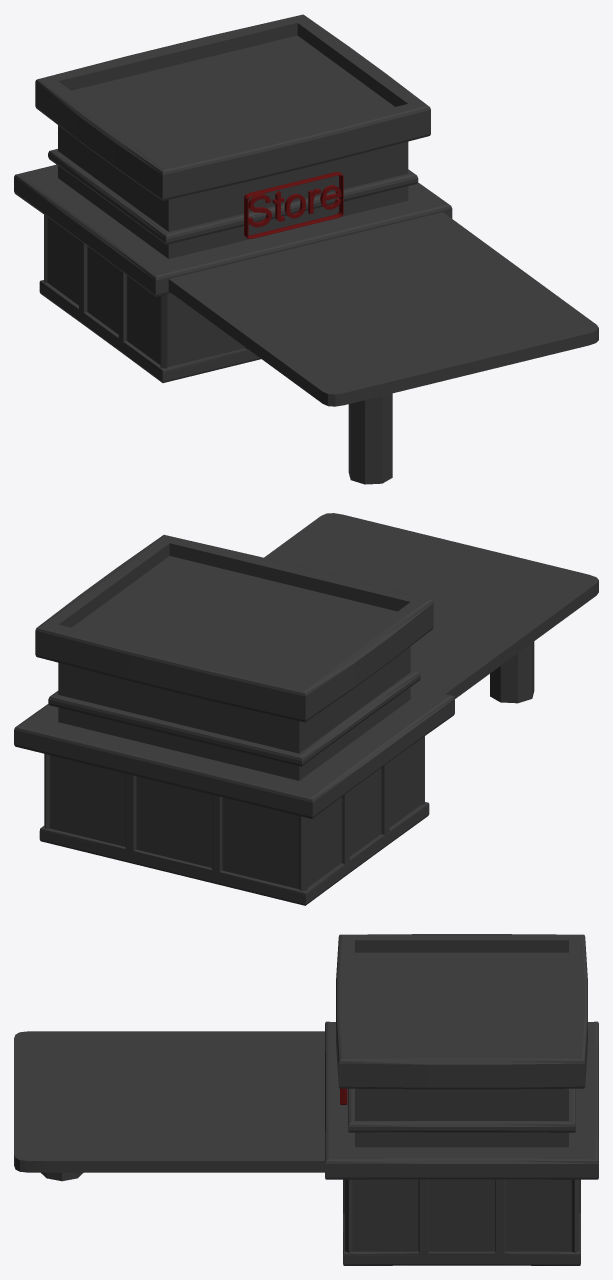
File: stroe.FBX
The picture shows the model from 3 angles, top to bottom: view 1: azimuth 30°, elevation 25°; view 2: azimuth 150°, elevation 25°; view 3: azimuth 270°, elevation 25°; orthographic projection. The views are drawn at different scales.
Visible parts, largest first — view 1: Box002; view 2: Box002; view 3: Box002.
Part boxes in pixels (bbox=[...]): Box002: bbox=[14, 14, 598, 484]; Box002: bbox=[14, 513, 598, 905]; Box002: bbox=[14, 934, 598, 1265].
Size of the model in its own units: 1467 by 1014 by 2590.
